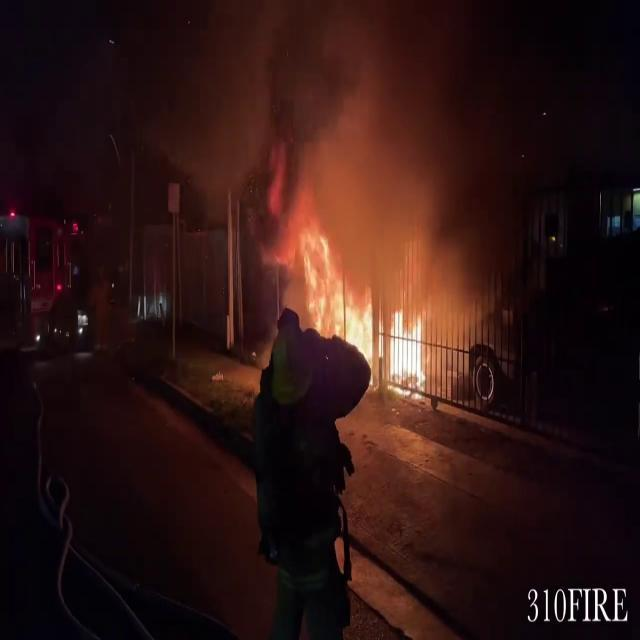Fire: (308, 236, 438, 386)
Smoke: (305, 0, 493, 316)
